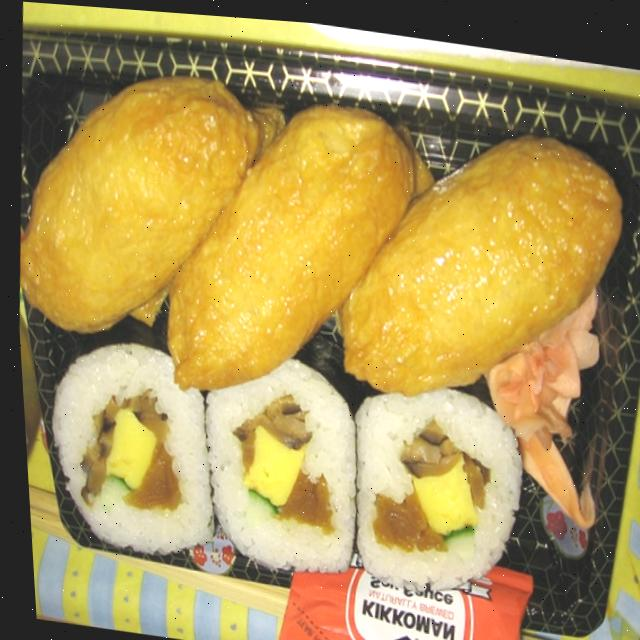寿司卷物: (1, 27, 640, 626)
